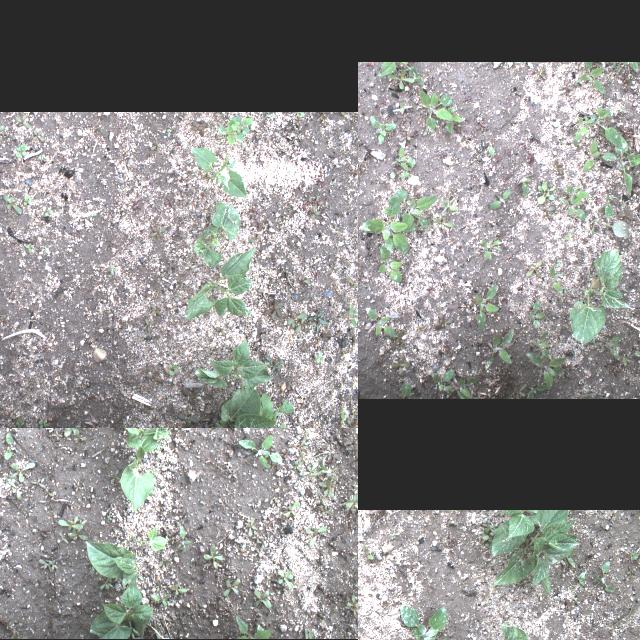crop: (481, 510, 582, 600), (572, 249, 634, 345), (114, 428, 176, 511), (184, 247, 256, 317), (182, 386, 278, 428), (193, 339, 274, 388), (89, 584, 153, 638), (193, 201, 240, 265), (190, 146, 248, 196), (87, 542, 139, 588), (398, 601, 455, 640), (501, 623, 557, 640), (131, 525, 167, 551)
weed: (358, 188, 438, 258), (526, 330, 570, 390), (422, 90, 466, 134), (588, 102, 630, 146), (431, 366, 483, 396), (238, 434, 282, 468), (593, 197, 627, 239), (256, 392, 295, 428), (472, 284, 502, 330), (486, 324, 516, 368), (366, 305, 404, 339), (381, 61, 424, 91), (615, 146, 640, 197), (587, 137, 617, 173), (579, 62, 609, 96), (558, 186, 588, 218), (390, 142, 416, 178), (378, 252, 407, 284), (236, 614, 272, 638), (568, 114, 592, 148), (369, 114, 398, 142), (593, 558, 615, 592), (604, 333, 628, 362), (477, 230, 499, 260), (220, 119, 244, 145), (486, 189, 516, 209), (310, 460, 340, 480), (7, 462, 35, 482), (514, 379, 546, 396), (548, 264, 564, 298), (526, 298, 544, 328), (174, 524, 192, 552), (203, 546, 223, 570), (230, 114, 252, 134), (262, 298, 284, 318), (436, 310, 456, 332), (524, 260, 544, 282), (306, 525, 326, 547), (624, 538, 640, 564), (318, 478, 338, 498), (572, 567, 592, 587), (536, 180, 554, 202), (293, 435, 309, 459), (2, 193, 20, 214), (6, 478, 24, 499), (429, 214, 455, 228), (277, 569, 295, 589), (254, 588, 272, 608), (361, 542, 379, 562), (441, 529, 459, 549), (312, 313, 330, 332), (4, 432, 16, 460), (223, 578, 241, 596), (286, 312, 306, 328), (264, 356, 284, 372), (442, 197, 462, 213), (518, 174, 534, 194), (299, 460, 319, 476), (556, 77, 578, 91), (345, 304, 358, 327), (345, 490, 358, 513), (182, 388, 200, 404), (396, 101, 414, 117), (399, 126, 417, 142), (446, 510, 462, 528), (68, 528, 88, 542), (58, 519, 84, 529), (345, 592, 358, 612), (192, 119, 208, 135), (98, 574, 114, 590), (308, 194, 329, 206), (285, 501, 299, 519), (524, 147, 536, 167), (619, 62, 639, 74), (151, 594, 171, 606), (168, 582, 188, 594), (244, 516, 256, 536), (14, 114, 30, 128), (542, 204, 558, 218), (562, 229, 578, 243), (38, 558, 54, 572), (148, 224, 166, 236), (178, 413, 198, 423), (28, 477, 46, 488), (140, 317, 154, 331), (398, 382, 412, 396), (554, 161, 568, 175), (386, 528, 400, 542), (110, 468, 122, 484), (71, 516, 81, 534), (32, 128, 46, 140), (15, 142, 27, 156), (251, 218, 265, 230), (346, 414, 358, 428), (56, 532, 70, 544), (61, 428, 79, 437), (311, 204, 321, 220), (296, 316, 306, 332), (485, 138, 495, 154), (317, 489, 327, 505), (318, 505, 334, 515), (226, 466, 238, 479), (150, 304, 162, 316), (534, 68, 546, 80), (256, 536, 268, 548), (248, 232, 262, 242), (298, 274, 312, 284), (73, 430, 87, 440), (150, 140, 162, 150), (168, 364, 178, 376), (292, 460, 304, 470), (309, 312, 323, 320), (42, 488, 56, 496), (348, 277, 358, 288), (26, 242, 36, 252), (38, 418, 48, 428), (217, 327, 226, 338), (50, 560, 59, 570), (0, 124, 5, 140), (16, 417, 24, 427), (132, 200, 142, 208), (305, 628, 313, 638), (23, 196, 32, 204), (108, 264, 114, 276), (315, 353, 323, 362), (340, 409, 346, 421), (0, 428, 17, 432), (37, 152, 44, 158), (296, 112, 306, 116), (46, 210, 54, 214), (245, 310, 253, 314), (42, 248, 46, 252), (268, 114, 276, 116)
